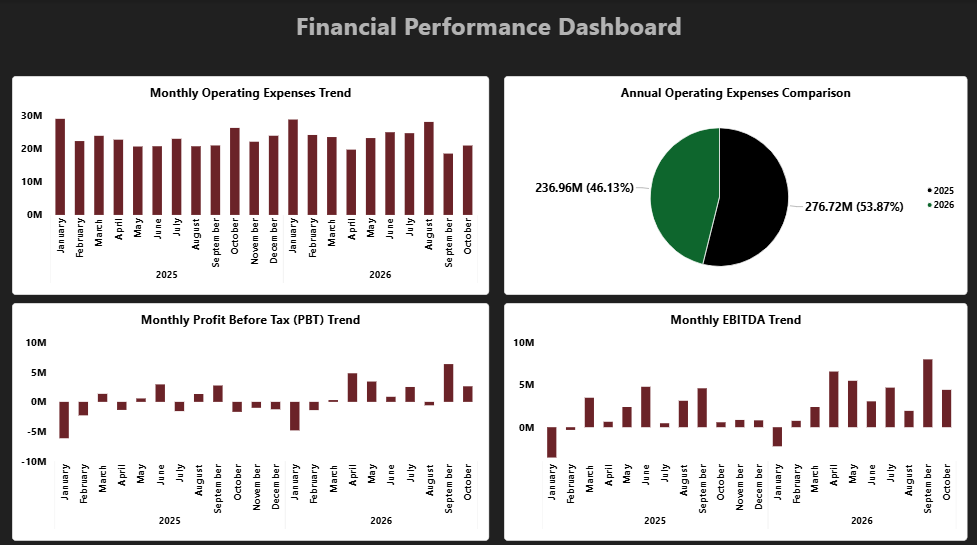

Layout of this report page (visuals, bound fields, positions):
{"tool":"powerbi","page":{"name":"Expense & Profitability","canvas":[1920,1080],"ordinal":2},"visuals":[{"type":"clusteredColumnChart","title":"Monthly Operating Expenses Trend","fields":{"Category":["transactions.transaction_date.Variation.Date Hierarchy.Year","transactions.transaction_date.Variation.Date Hierarchy.Month"],"Y":["transactions.Total Expenses"]},"box":[24.2,149.9,936.7,429.8],"z":0},{"type":"pieChart","title":"Annual Operating Expenses Comparison","fields":{"Category":["transactions.transaction_date.Variation.Date Hierarchy.Year"],"Y":["transactions.Total Expenses"]},"box":[989.6,149.9,910.3,429.8],"z":1000},{"type":"clusteredColumnChart","title":"Monthly EBITDA Trend","fields":{"Category":["transactions.transaction_date.Variation.Date Hierarchy.Year","transactions.transaction_date.Variation.Date Hierarchy.Month"],"Y":["transactions.EBITDA"]},"box":[989.6,595.1,910.3,467.3],"z":2000},{"type":"clusteredColumnChart","title":"Monthly Profit Before Tax (PBT) Trend","fields":{"Category":["transactions.transaction_date.Variation.Date Hierarchy.Year","transactions.transaction_date.Variation.Date Hierarchy.Month"],"Y":["transactions.PBT"]},"box":[24.2,595.1,936.7,467.3],"z":3000},{"type":"textbox","title":"Financial Performance Dashboard","box":[347.3,17.6,1225.5,101.4],"z":4002}]}

Visuals, with their boxes in screenshot pixels (x1, y1, x2, y2), scaled from the page's 1920x1080 canvas onto the 977x545 screenshot:
"Monthly Operating Expenses Trend" clusteredColumnChart: box(12, 76, 489, 293)
"Annual Operating Expenses Comparison" pieChart: box(504, 76, 967, 293)
"Monthly EBITDA Trend" clusteredColumnChart: box(504, 300, 967, 536)
"Monthly Profit Before Tax (PBT) Trend" clusteredColumnChart: box(12, 300, 489, 536)
"Financial Performance Dashboard" textbox: box(177, 9, 800, 60)
